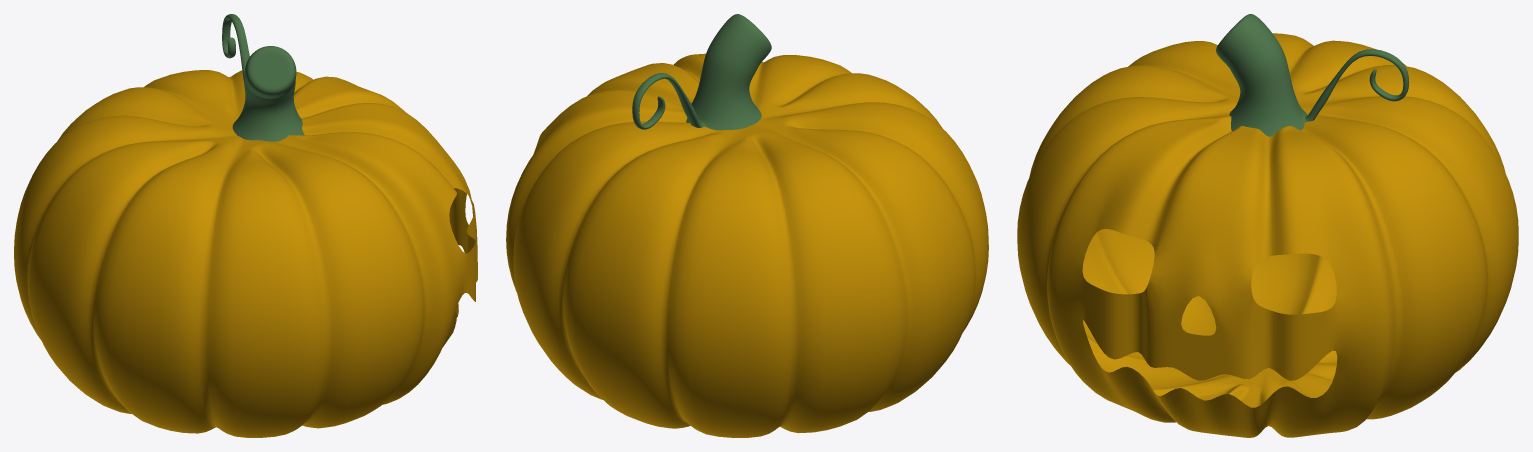
File: carvedPumpkin.fbx
The picture shows the model from 3 angles, left to right: view 1: azimuth 30°, elevation 25°; view 2: azimuth 150°, elevation 25°; view 3: azimuth 270°, elevation 25°; orthographic projection. The views are drawn at different scales.
Visible parts, largest first — view 1: polySurface198, house:polySurface198, house:polySurface181; view 2: house:polySurface198, polySurface198, house:polySurface181; view 3: house:polySurface198, polySurface198, house:polySurface181.
Part boxes in pixels (box(x1,y1,x2,y2)): polySurface198: box(14, 71, 475, 437); house:polySurface198: box(76, 70, 477, 425); house:polySurface181: box(222, 14, 304, 141); house:polySurface198: box(506, 53, 886, 437); polySurface198: box(614, 55, 988, 437); house:polySurface181: box(632, 14, 771, 130); house:polySurface198: box(1034, 36, 1518, 437); polySurface198: box(1017, 33, 1443, 432); house:polySurface181: box(1216, 14, 1409, 136).
Size of the model in its own units: 0.3191 by 0.2581 by 0.3168.
